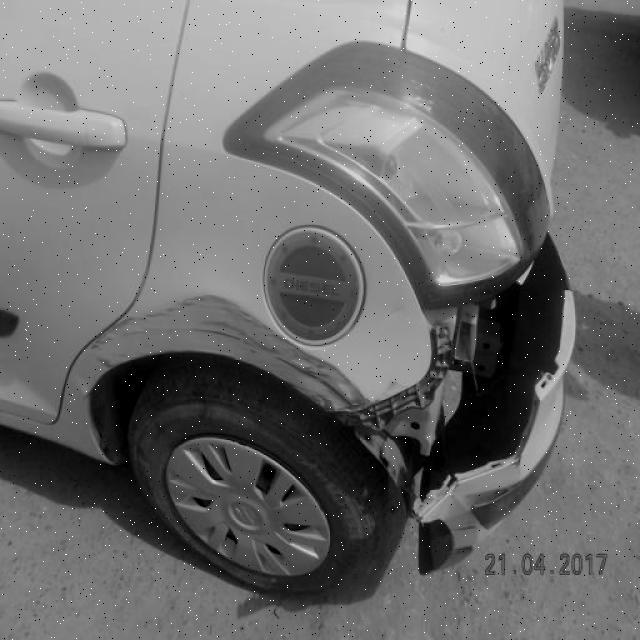car damage: (331, 227, 575, 517), (88, 294, 370, 415)
